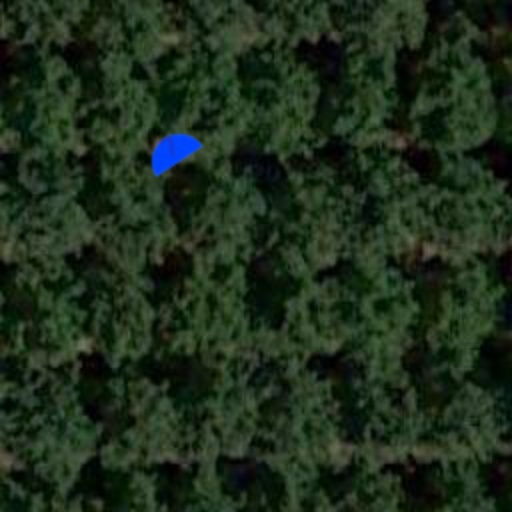semicircle: (132, 110, 212, 190)
